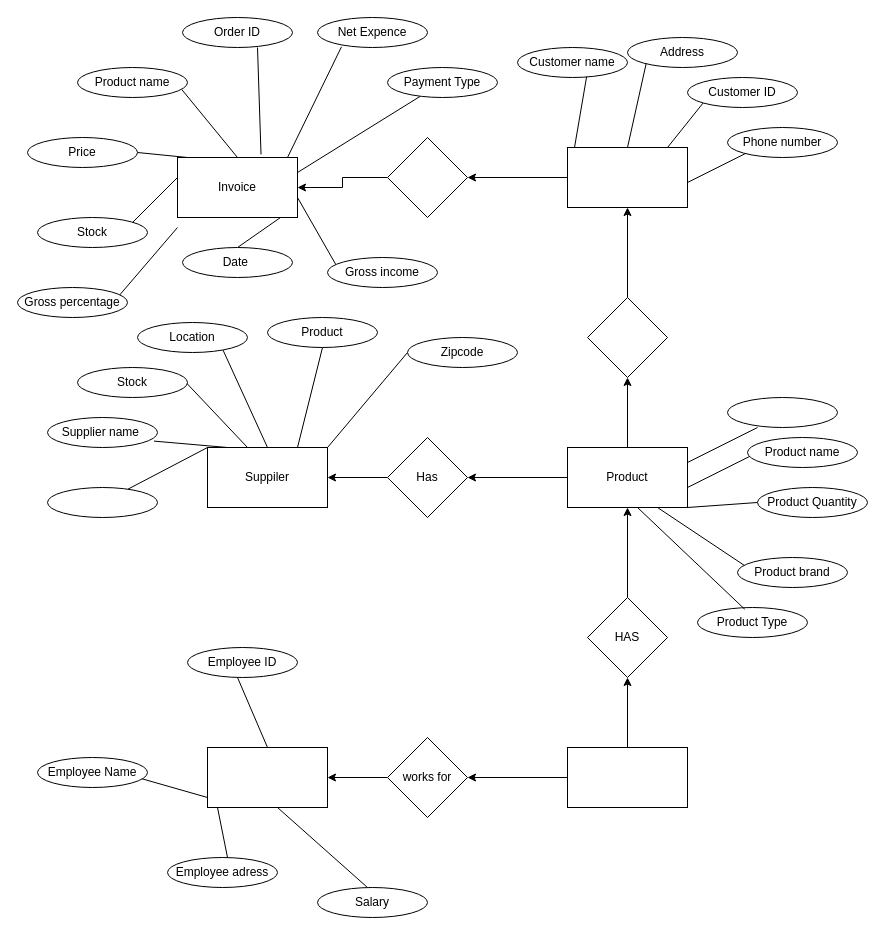
Some shapes in this 885 by 935 pixel diagram are drawn without their labels. The shapes that lost their labels are listed below. From the top down, each one's centre as x and y in pixels, then its label:
At (427,177): "Needs".
At (627,177): "Customer".
At (627,337): "Buys".
At (782,412): "Product ID".
At (102,502): "Supplier id".
At (267,777): "Employees".
At (627,777): "Grocery store".
